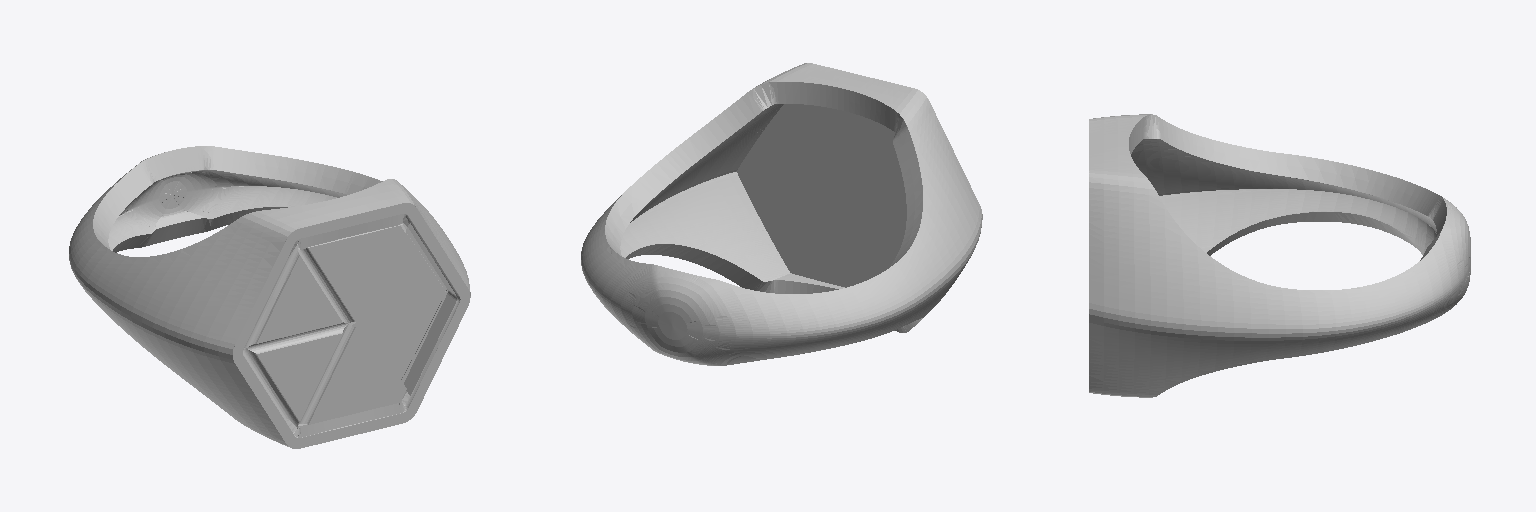
The model's file is chevalier.obj.
The picture shows the model from 3 angles: view 1: azimuth 30°, elevation 25°; view 2: azimuth 150°, elevation 25°; view 3: azimuth 270°, elevation 25°; orthographic projection.
Parts seen in each view (by area): view 1: unnamed1, unnamed2; view 2: unnamed1, unnamed2; view 3: unnamed1.
Boxes of the visible parts, x1=… form: unnamed1: x1=69, y1=146, x2=470, y2=446; unnamed2: x1=233, y1=202, x2=470, y2=448; unnamed1: x1=581, y1=63, x2=982, y2=365; unnamed2: x1=736, y1=63, x2=928, y2=287; unnamed1: x1=1089, y1=114, x2=1470, y2=397.
Size of the model in its own units: 20.61 by 13.84 by 21.45.